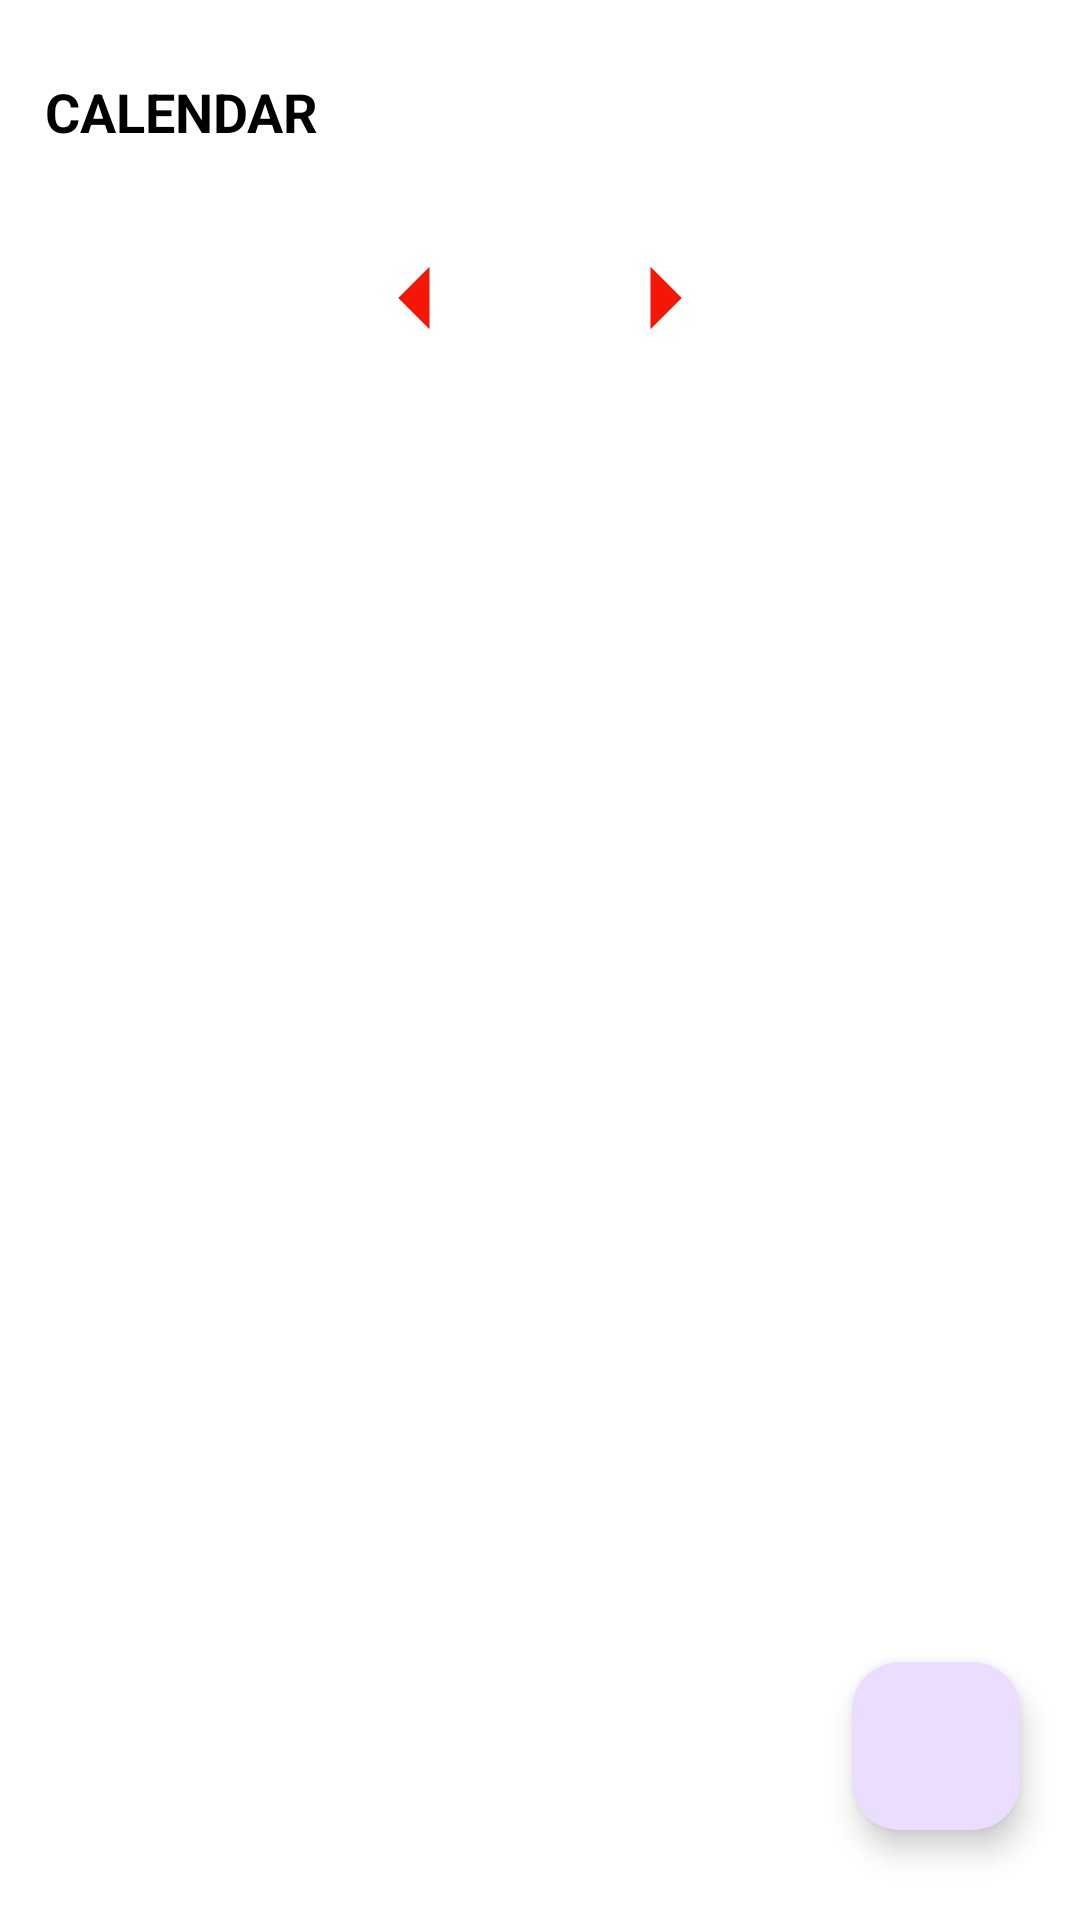

Where to tap for icons on this 1080x1920 app screen, as [x,y]:
arrow left: [414,298]
arrow right: [666,298]
